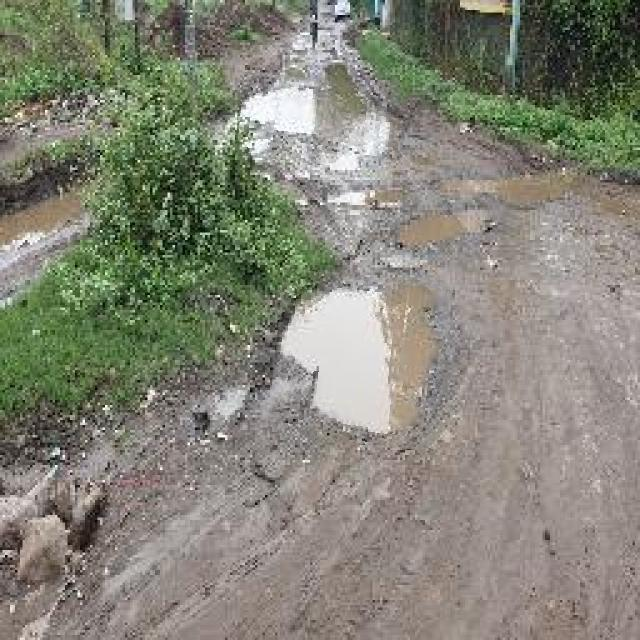puddle: (272, 273, 450, 448), (237, 77, 408, 169)
